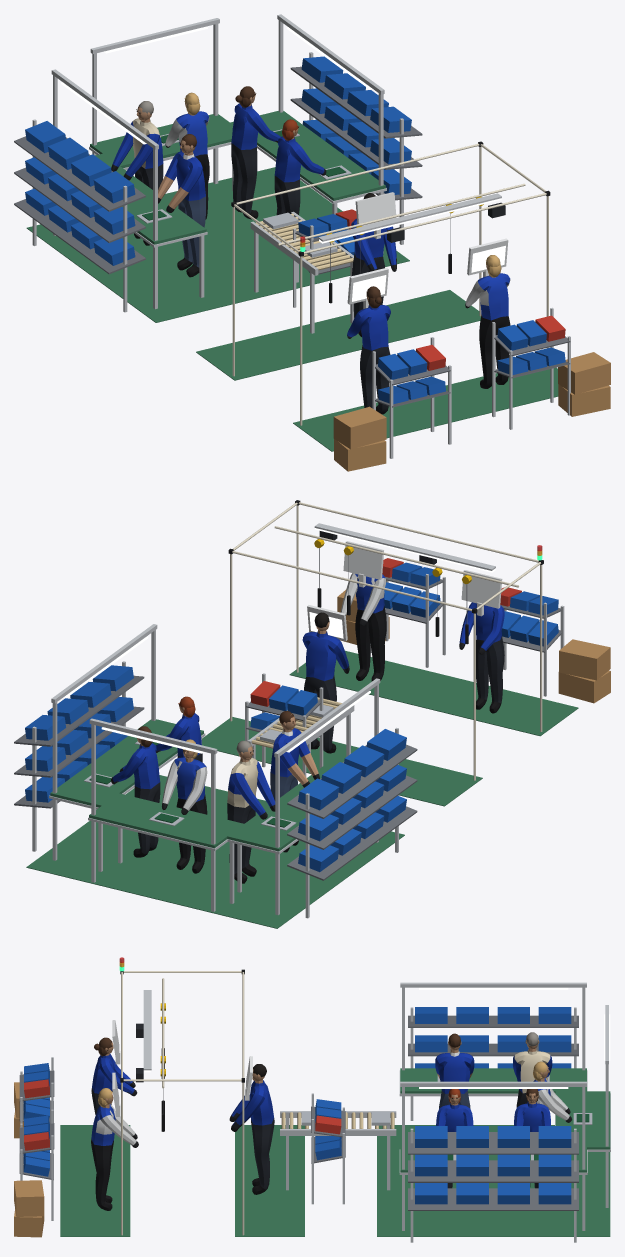
Rendered from cells-plant.glb.
3 views of the same model, one above another, from view 1: azimuth 30°, elevation 25°; view 2: azimuth 150°, elevation 25°; view 3: azimuth 270°, elevation 25° (orthographic). The views are drawn at different scales.
Parts seen in each view (by area): view 1: CELLS.bay.floor, CELLS.u.floor, CELLS.u.benches, CELLS.u.bins, CELLS.u.operators, CELLS.u.feed, CELLS.bay.operators, CELLS.bay.bins, CELLS.bay.frame, CELLS.bay.racks, CELLS.bay.screens, CELLS.bay.lights (+1 smaller); view 2: CELLS.u.benches, CELLS.u.floor, CELLS.bay.floor, CELLS.u.bins, CELLS.u.operators, CELLS.u.feed, CELLS.bay.operators, CELLS.bay.bins, CELLS.bay.frame, CELLS.bay.racks, CELLS.bay.screens, CELLS.bay.lights (+2 smaller); view 3: CELLS.bay.floor, CELLS.u.bins, CELLS.u.feed, CELLS.u.benches, CELLS.u.floor, CELLS.bay.operators, CELLS.u.operators, CELLS.bay.bins, CELLS.bay.racks, CELLS.bay.frame, CELLS.bay.screens, CELLS.bay.lights.
Boxes of the visible parts, x1,y1,x2,y2 form: CELLS.bay.floor: (196,290,610,471); CELLS.u.floor: (26,167,409,322); CELLS.u.benches: (51,14,386,309); CELLS.u.bins: (25,56,411,265); CELLS.u.operators: (111,86,326,277); CELLS.u.feed: (14,52,422,333); CELLS.bay.operators: (347,193,510,414); CELLS.bay.bins: (298,209,565,404); CELLS.bay.frame: (232,143,548,425); CELLS.bay.racks: (293,225,570,458); CELLS.bay.screens: (347,192,508,308); CELLS.bay.lights: (300,193,501,251); CELLS.u.benches: (49,624,380,915); CELLS.u.floor: (26,775,404,928); CELLS.bay.floor: (202,589,610,806); CELLS.u.bins: (25,665,406,872); CELLS.u.operators: (111,696,319,883); CELLS.u.feed: (14,661,417,918); CELLS.bay.operators: (302,573,504,753); CELLS.bay.bins: (250,558,558,729); CELLS.bay.frame: (230,502,542,780); CELLS.bay.racks: (245,574,564,776); CELLS.bay.screens: (307,531,502,641); CELLS.bay.lights: (314,523,542,572); CELLS.bay.floor: (14,1082,304,1237); CELLS.u.bins: (301,1007,571,1204); CELLS.u.feed: (280,1007,578,1242); CELLS.u.benches: (399,982,610,1230); CELLS.u.floor: (377,1125,610,1236); CELLS.bay.operators: (91,1037,274,1210); CELLS.u.operators: (435,1032,571,1188); CELLS.bay.bins: (23,1063,341,1176); CELLS.bay.racks: (19,1057,345,1220); CELLS.bay.frame: (121,971,244,1235); CELLS.bay.screens: (112,1020,252,1116); CELLS.bay.lights: (119,957,151,1072).
Size of the model in its own units: 4.2 by 2.4 by 7.68.
